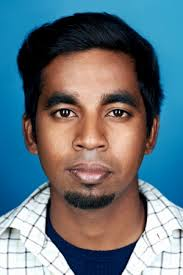s.black: (103, 122, 139, 176)
